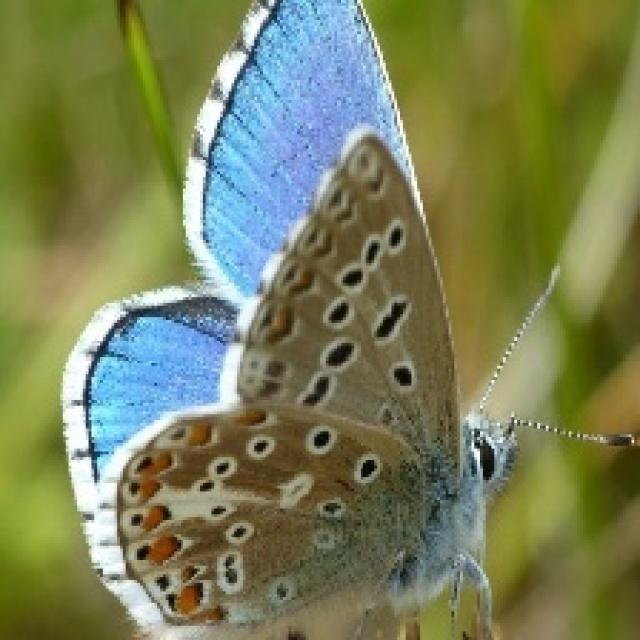butterfly: (57, 0, 637, 637)
